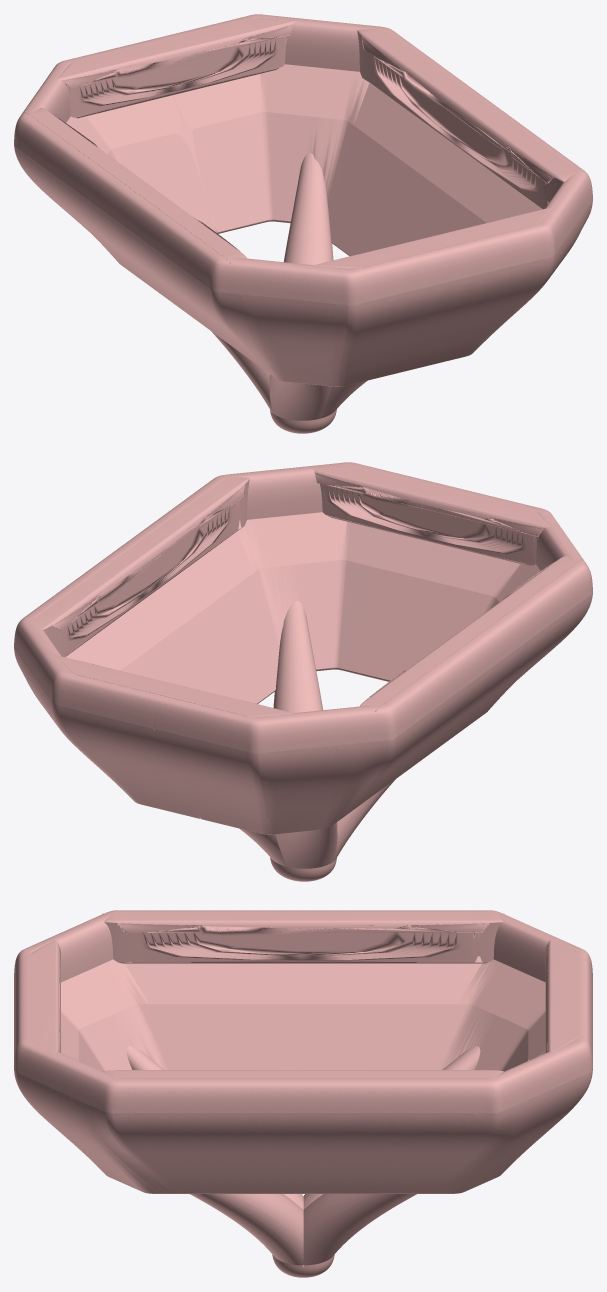
Rendered from EMERALD.glb.
3 views of the same model, one above another, from view 1: azimuth 30°, elevation 25°; view 2: azimuth 150°, elevation 25°; view 3: azimuth 270°, elevation 25° (orthographic). The views are drawn at different scales.
Parts seen in each view (by area): view 1: Emerald.001; view 2: Emerald.001; view 3: Emerald.001.
Boxes of the visible parts, bbox=[...] form: Emerald.001: bbox=[14, 14, 592, 433]; Emerald.001: bbox=[14, 462, 592, 881]; Emerald.001: bbox=[14, 910, 592, 1277].
Bounding box in the file's own units: 5.61 × 4.01 × 7.62.
